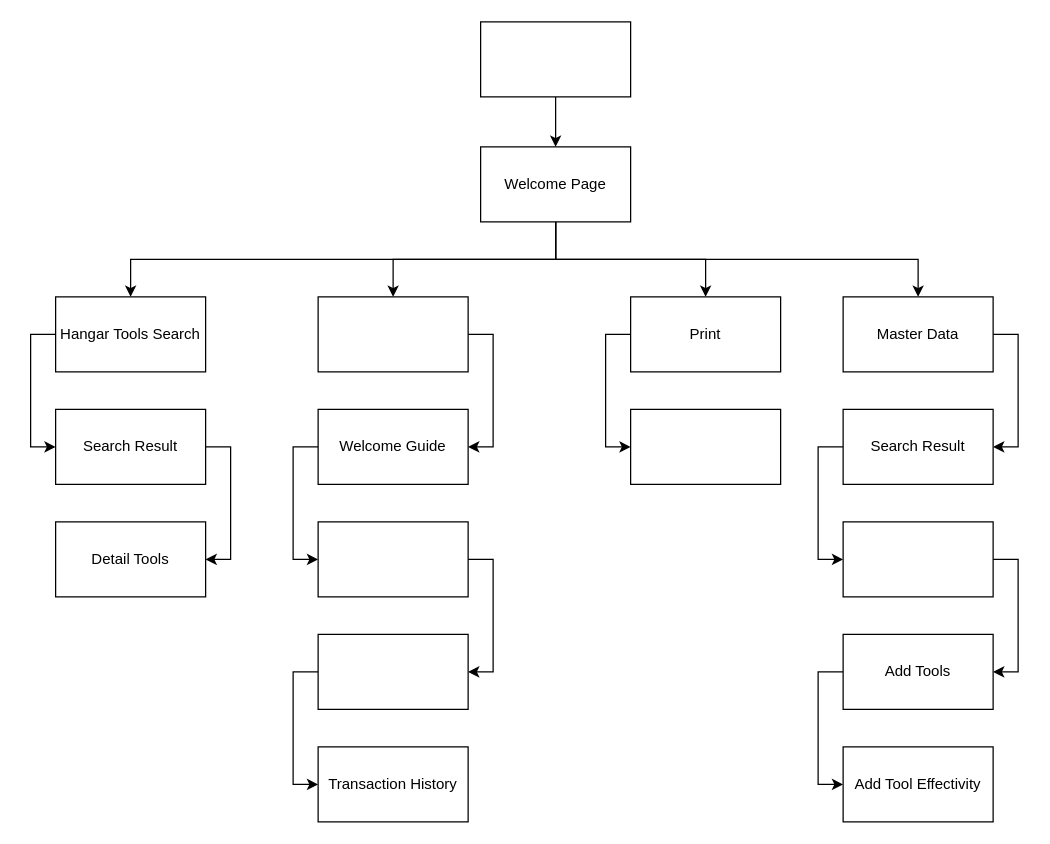
This 1050x844 diagram has some shape labels left out. Each missing label, with the centre of its shape:
"Edit Personnel Number" belongs at point 392,559.
"Login" belongs at point 555,59.
"Tools & Equipment Borrowing Letter" belongs at point 705,446.
"Tools Data" belongs at point 392,334.
"Tools Description" belongs at point 917,559.
"Tools QR Code" belongs at point 392,671.
